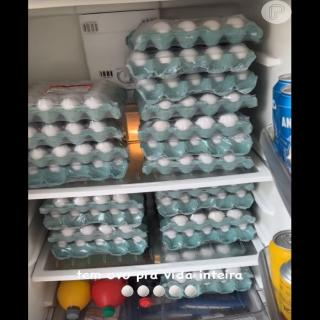Egg: (130, 20, 276, 47), (130, 52, 272, 76), (143, 112, 264, 138), (161, 209, 256, 230), (28, 94, 110, 115), (45, 200, 150, 214)
Juice: (51, 280, 89, 320), (90, 279, 120, 319)
